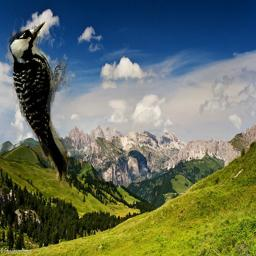Woodpecker: (1, 16, 82, 194)
